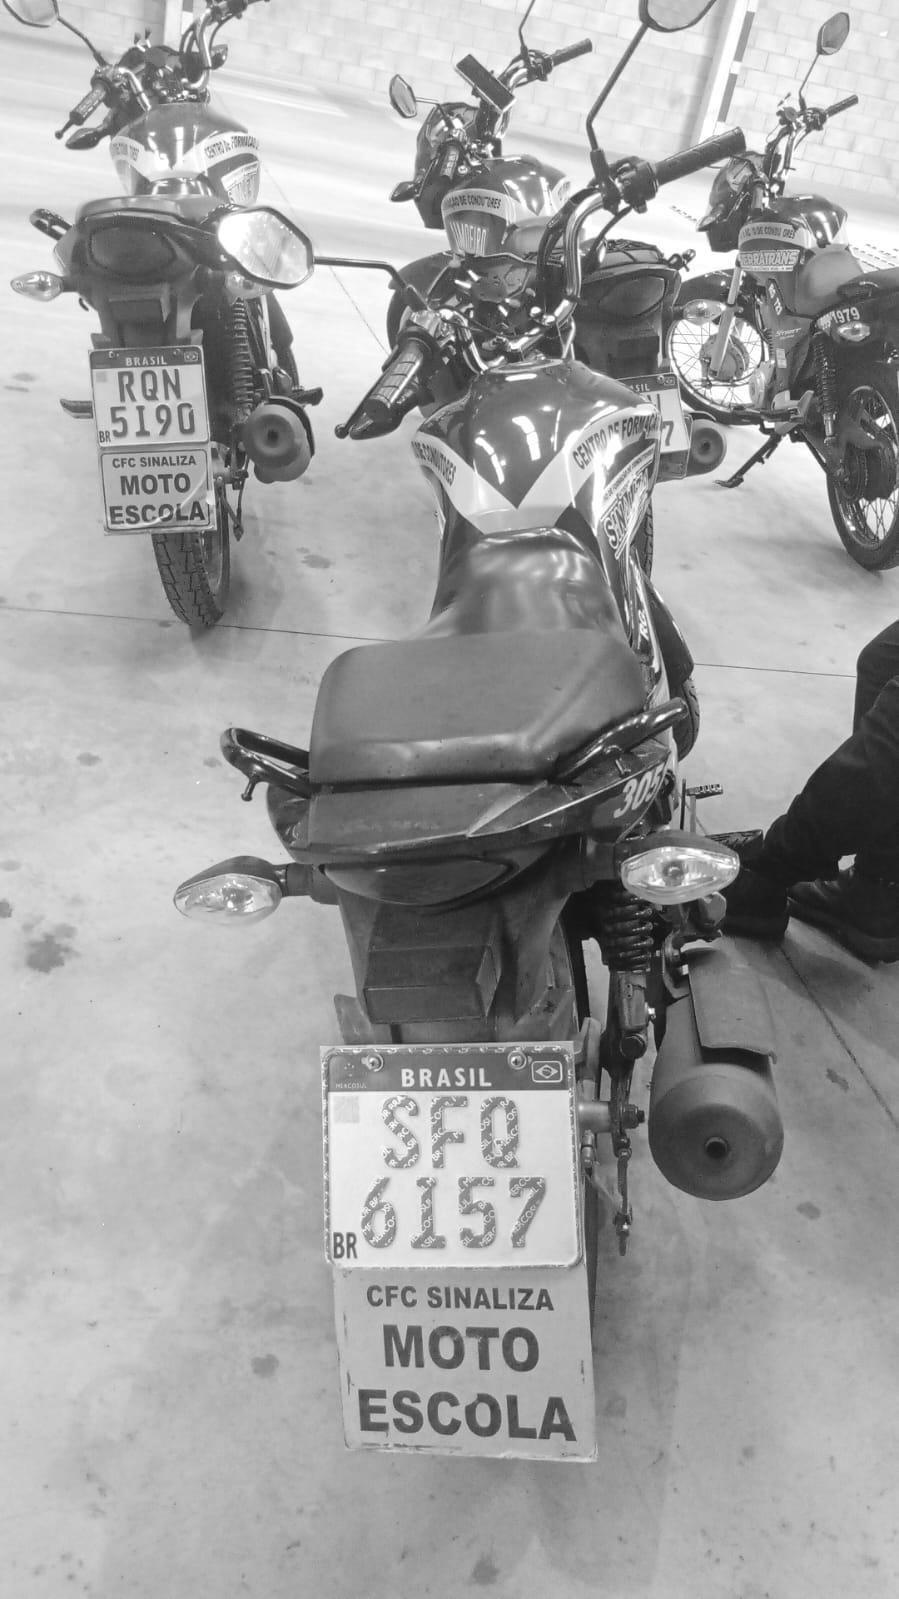placa_mercosul: (322, 1044, 580, 1272), (92, 344, 216, 454)
